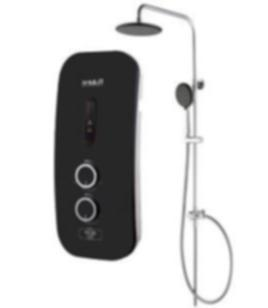Ducha: (52, 0, 228, 307)
